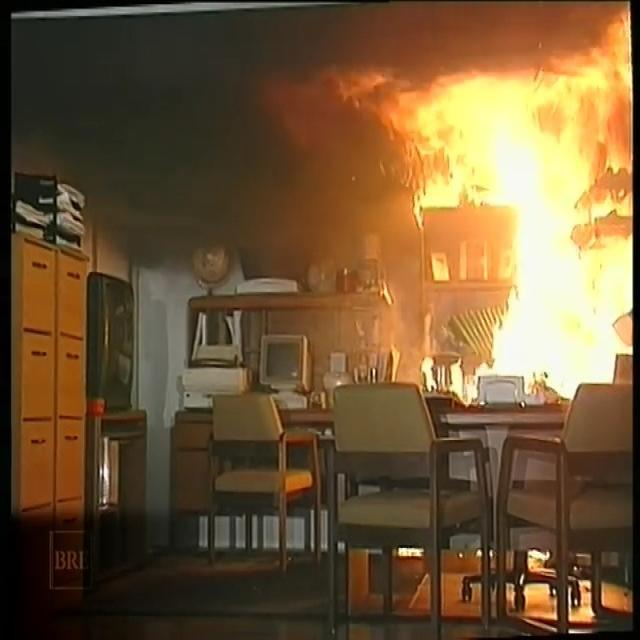Fire: (294, 1, 634, 412)
